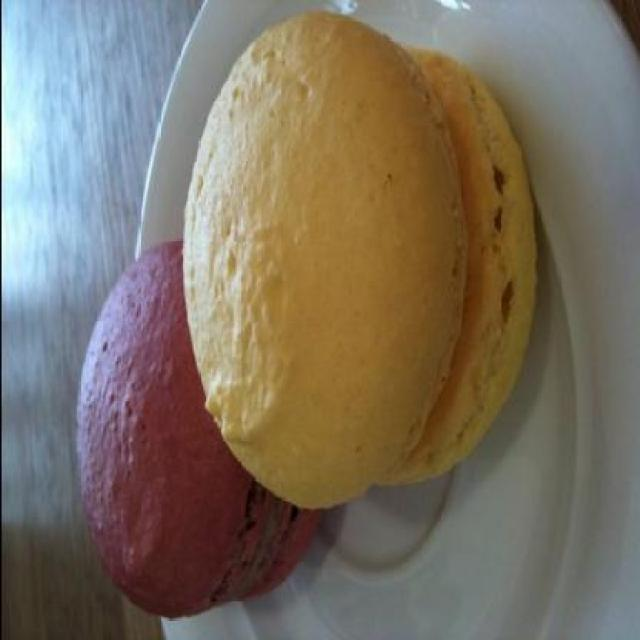Macaron: (74, 7, 590, 638)
